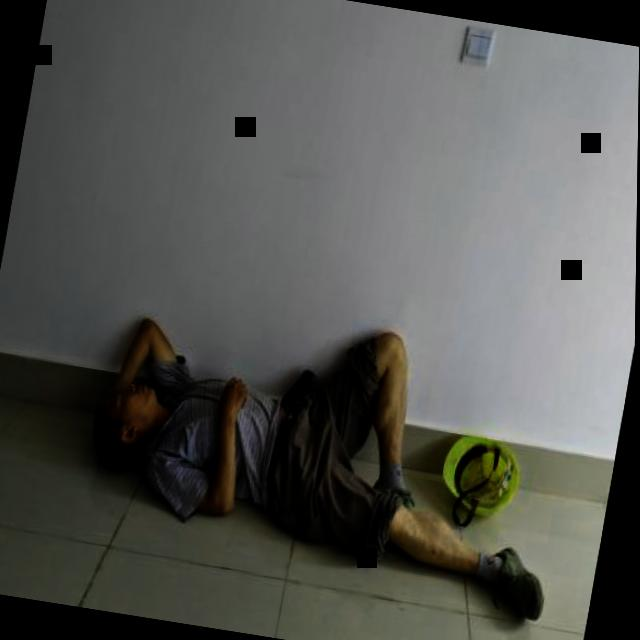Fall-Detected: (68, 258, 598, 621)
